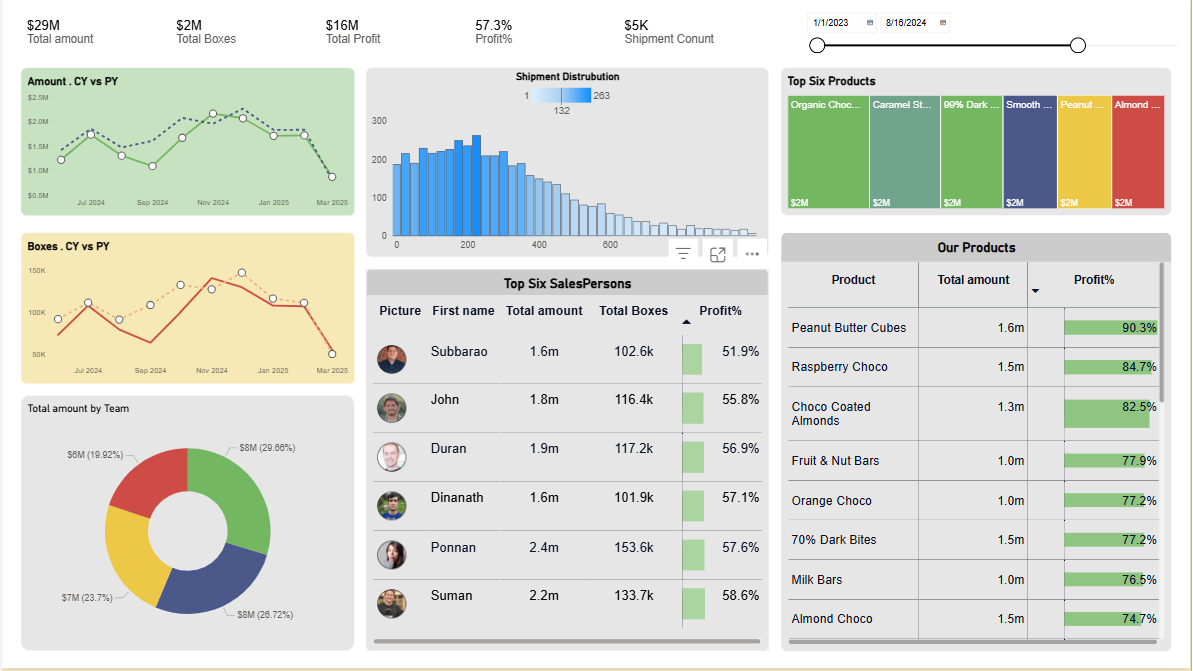

This screenshot's page, from the dashboard's own definition file:
{"tool":"powerbi","page":{"name":"PB rpt","canvas":[1920,1080],"ordinal":7},"visuals":[{"type":"lineChart","title":"Amount . CY vs PY","fields":{"Y":["shipments.Total amount","shipments.Total Amount(Last year)"],"Category":["calendar.Start of Month"]},"box":[31.1,108.9,540,240],"z":0},{"type":"lineChart","title":"Boxes . CY vs PY","fields":{"Category":["calendar.Start of Month"],"Y":["shipments.Total Boxes","shipments.Total Boxes(last year)"]},"box":[31.1,375.6,540,244.4],"z":1000},{"type":"clusteredColumnChart","title":"Shipment Distrubution","fields":{"Y":["shipments.Shipment Conunt"],"Category":["shipments.Boxes (bins)"]},"box":[586.7,108.9,651.1,306.7],"z":2000},{"type":"tableEx","title":"Top Six SalesPersons","fields":{"Values":["people.Picture","people.First name","shipments.Total amount","shipments.Total Boxes","shipments.Profit%"]},"box":[586.7,433.3,651.1,617.8],"z":3000},{"type":"treemap","title":"Top Six Products","fields":{"Values":["shipments.Total amount"],"Group":["products.Product"]},"box":[1258.3,108.3,631.2,239.6],"z":4000},{"type":"tableEx","title":"Our Products","fields":{"Values":["products.Product","shipments.Total amount","shipments.Profit%"]},"box":[1258.3,375,631.2,677.1],"z":5000},{"type":"multiRowCard","fields":{"Values":["shipments.Total amount","shipments.Total Boxes","shipments.Total Profit","shipments.Profit%","shipments.Shipment Conunt"]},"box":[30.9,18.5,1226.8,70],"z":6000},{"type":"slicer","fields":{"Values":["calendar.cal_date"]},"box":[1288.4,10.1,632.1,90.9],"z":7000},{"type":"donutChart","fields":{"Category":["people.Team"],"Y":["shipments.Total amount"]},"box":[30.3,638.1,539.2,414],"z":8000}]}

Visuals, with their boxes in screenshot pixels (x1, y1, x2, y2), scaled from the page's 1920x1080 canvas onto the 1193x671 screenshot:
"Amount . CY vs PY" lineChart: 19, 68, 355, 217
"Boxes . CY vs PY" lineChart: 19, 233, 355, 385
"Shipment Distrubution" clusteredColumnChart: 365, 68, 769, 258
"Top Six SalesPersons" tableEx: 365, 269, 769, 653
"Top Six Products" treemap: 782, 67, 1174, 216
"Our Products" tableEx: 782, 233, 1174, 654
multiRowCard - shipments.Total amount x shipments.Total Boxes: 19, 11, 781, 55
slicer - calendar.cal_date: 801, 6, 1192, 63
donutChart - people.Team x shipments.Total amount: 19, 396, 354, 654
